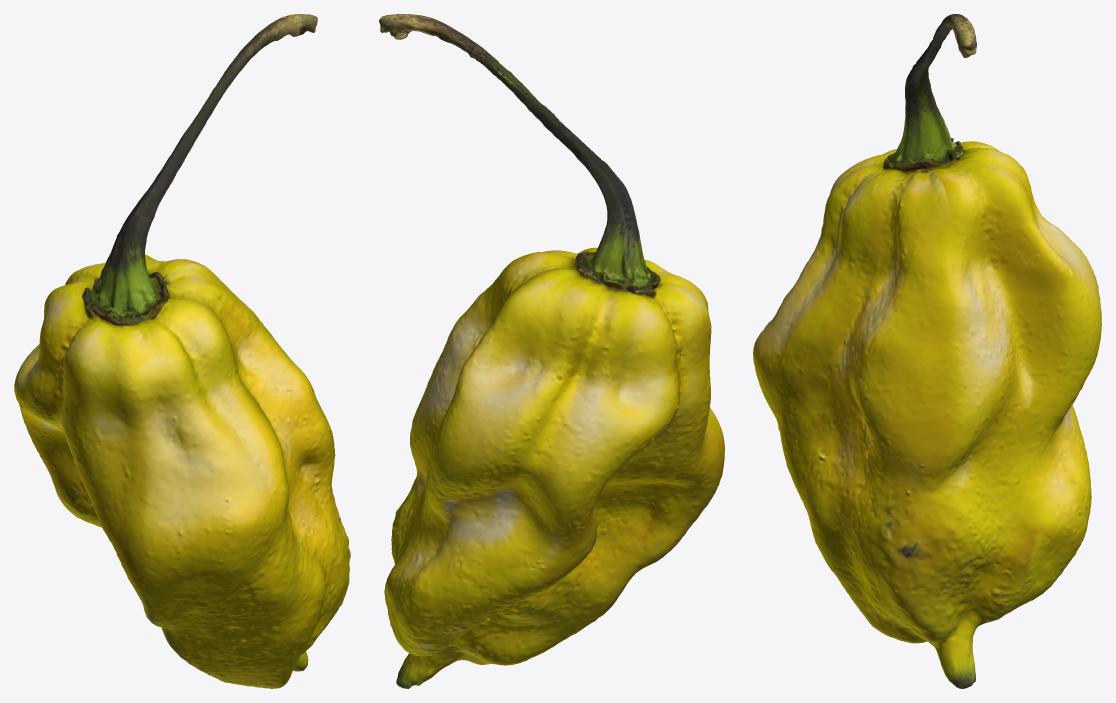
The model's file is Yellow_Spice.glb.
3 views of the same model, side by side, from view 1: azimuth 30°, elevation 25°; view 2: azimuth 150°, elevation 25°; view 3: azimuth 270°, elevation 25° (orthographic). The views are drawn at different scales.
Size of the model in its own units: 0.8732 by 1.9 by 0.9105.
1 material, 1 textured.
